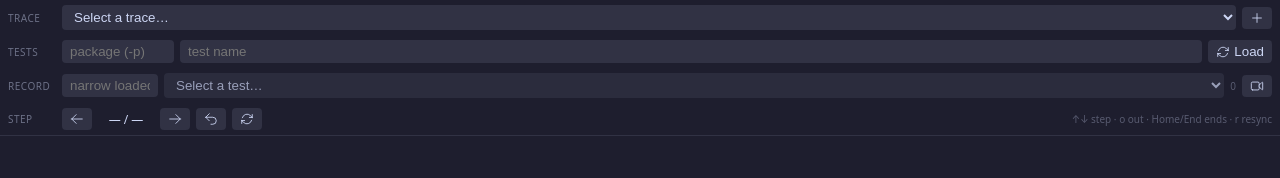
Scenario: DebugWalkthroughTile › recording from the UI › surfaces a recording failure instead of failing silently
Click the button with aria-label "Load tests" at (1240, 52), box [1208, 40, 1272, 63]
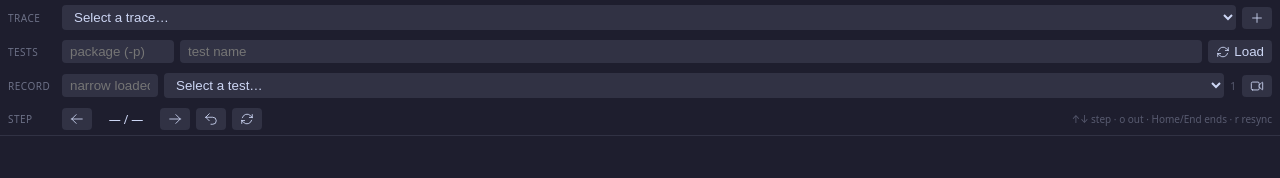
Select "b" in the dropdown named "Test" at (694, 86), box [164, 73, 1224, 98]
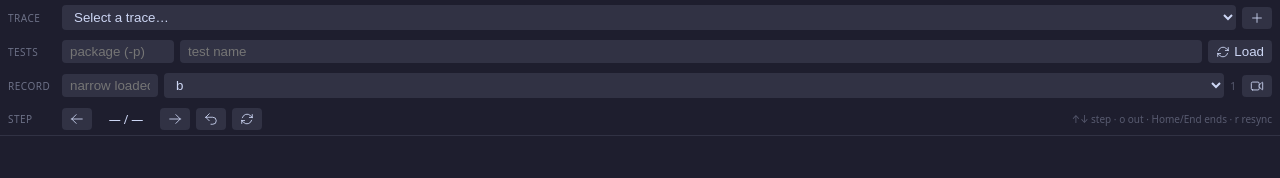
Click the button named "Record trace" at (1257, 86), box [1242, 74, 1272, 96]
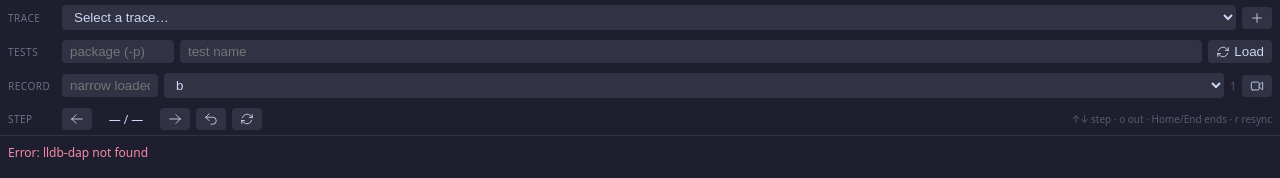
Expected: the text with test id "walkthrough-error" shows "lldb-dap", [8, 144, 148, 161]
